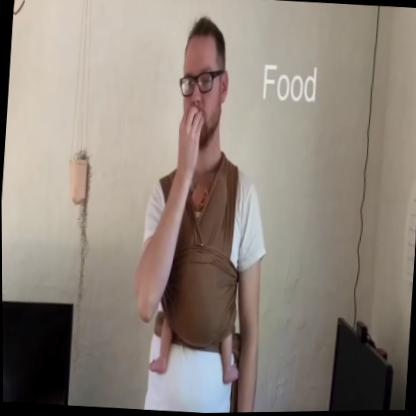Food: (159, 13, 238, 186)
